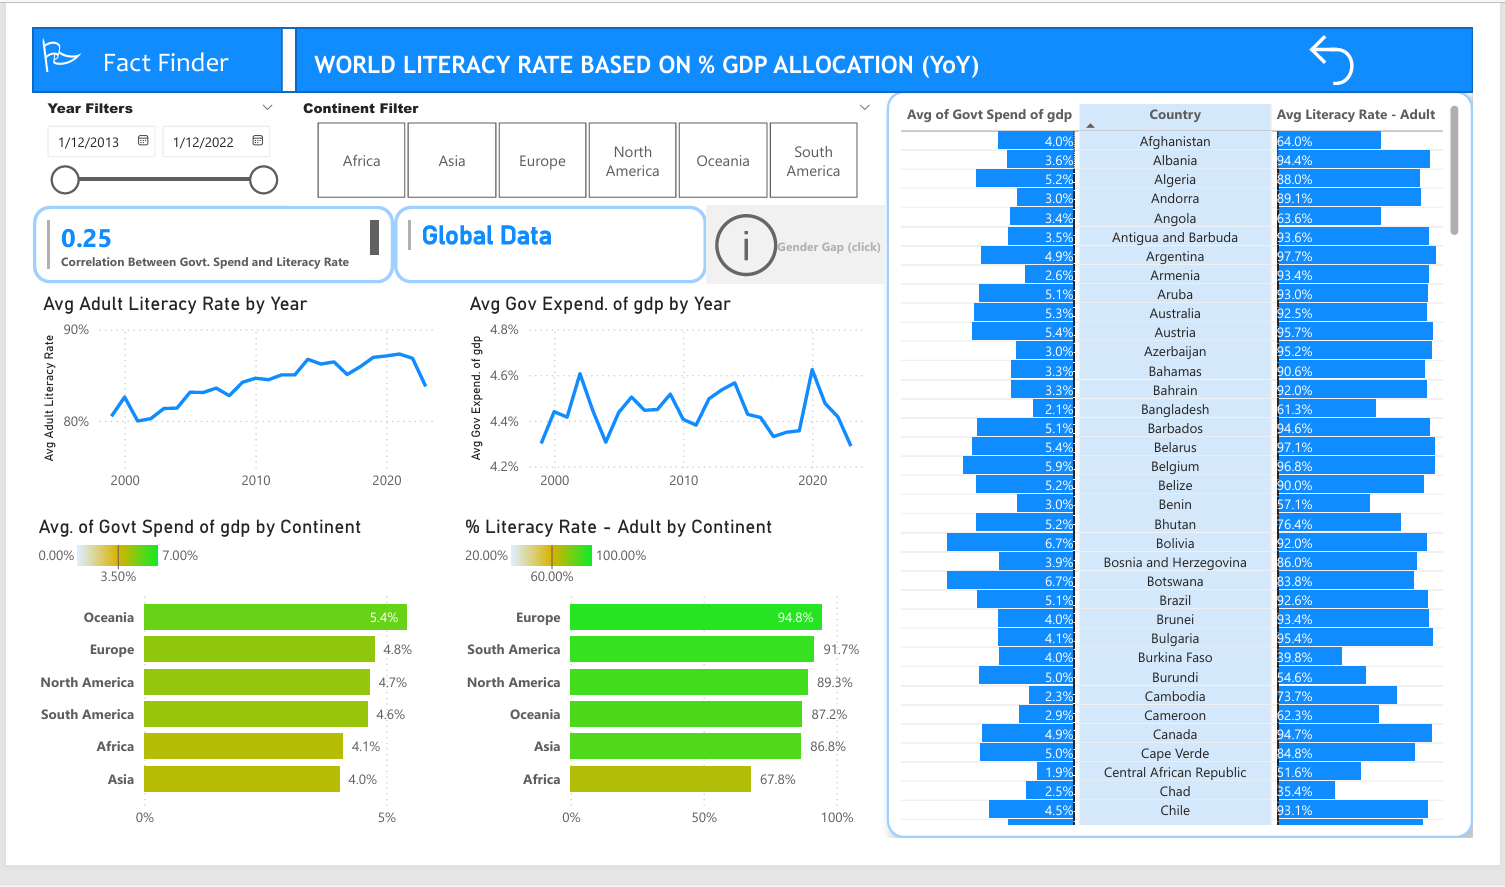

This screenshot's page, from the dashboard's own definition file:
{"tool":"powerbi","page":{"name":"Literacy Rate by Govt. Expenditure","canvas":[1280,720],"ordinal":0},"visuals":[{"type":"slicer","fields":{"Values":["world-education-data.Year"]},"box":[0,57.8,226.5,100.9],"z":0},{"type":"lineChart","fields":{"Category":["world-education-data.Year.Variation.Date Hierarchy.Year"],"Y":["Avg(world-education-data.Gov Expenditure % of gdp)"]},"box":[379.4,231.4,369.4,192.8],"z":1000},{"type":"lineChart","fields":{"Category":["world-education-data.Year.Variation.Date Hierarchy.Year"],"Y":["Avg(world-education-data.lit_rate_adult_pct)"]},"box":[0,231.4,370.7,192.8],"z":2000},{"type":"clusteredBarChart","fields":{"Category":["world-education-data.Continent"],"Y":["Avg(world-education-data.lit_rate_adult_pct)"]},"box":[379.1,433.1,379.1,287.1],"z":3000},{"type":"multiRowCard","fields":{"Values":["world-education-data.Average of Gov Expenditure % of gdp and Average of lit_rate_adult_pct correlation for country"]},"box":[0,158.3,321.5,68.7],"z":4000},{"type":"tableEx","title":"Table of Gov Exp","fields":{"Values":["Avg(world-education-data.Gov Expenditure % of gdp)","world-education-data.country","Avg(world-education-data.lit_rate_adult_pct)"]},"box":[758.8,56,521.2,664.3],"z":5000},{"type":"clusteredBarChart","fields":{"Category":["world-education-data.Continent"],"Y":["Avg(world-education-data.Gov Expenditure % of gdp)"]},"box":[0,433.1,379.1,287.1],"z":6000},{"type":"shape","box":[0,0,1280,57],"z":7000},{"type":"textbox","box":[244.9,15.3,706.8,34.8],"z":8000},{"type":"shape","box":[221.2,0,12.5,57],"z":9000},{"type":"textbox","box":[0,0,57,57],"z":10000},{"type":"textbox","box":[57,9.7,140.5,47.3],"z":11000},{"type":"actionButton","box":[1125.6,0,143.3,57],"z":12000},{"type":"slicer","title":"Continent Filter","fields":{"Values":["world-education-data.Continent"]},"box":[227,57.7,530.1,100.6],"z":13000},{"type":"multiRowCard","fields":{"Values":["world-education-data.Selected Country"]},"box":[321.5,158.3,277.3,68.7],"z":14000},{"type":"actionButton","title":"Gender Gap  (click)","box":[598.7,158,159.5,69.6],"z":14001}]}

Visuals, with their boxes on the page's 1280x720 design canvas (x1, y1, x2, y2). These are canvas units, not pixel positions in the 1505x887 screenshot, which may show the page scaled, cropped or inside an application window:
slicer - world-education-data.Year: 0,58,226,159
lineChart - world-education-data.Year.Variation.Date Hierarchy.Year x Avg(world-education-data.Gov Expenditure % of gdp): 379,231,749,424
lineChart - world-education-data.Year.Variation.Date Hierarchy.Year x Avg(world-education-data.lit_rate_adult_pct): 0,231,371,424
clusteredBarChart - world-education-data.Continent x Avg(world-education-data.lit_rate_adult_pct): 379,433,758,720
multiRowCard - world-education-data.Average of Gov Expenditure % of gdp and Average of lit_rate_adult_pct correlation for country: 0,158,322,227
"Table of Gov Exp" tableEx: 759,56,1280,720
clusteredBarChart - world-education-data.Continent x Avg(world-education-data.Gov Expenditure % of gdp): 0,433,379,720
shape: 0,0,1280,57
textbox: 245,15,952,50
shape: 221,0,234,57
textbox: 0,0,57,57
textbox: 57,10,198,57
actionButton: 1126,0,1269,57
"Continent Filter" slicer: 227,58,757,158
multiRowCard - world-education-data.Selected Country: 322,158,599,227
"Gender Gap  (click)" actionButton: 599,158,758,228
